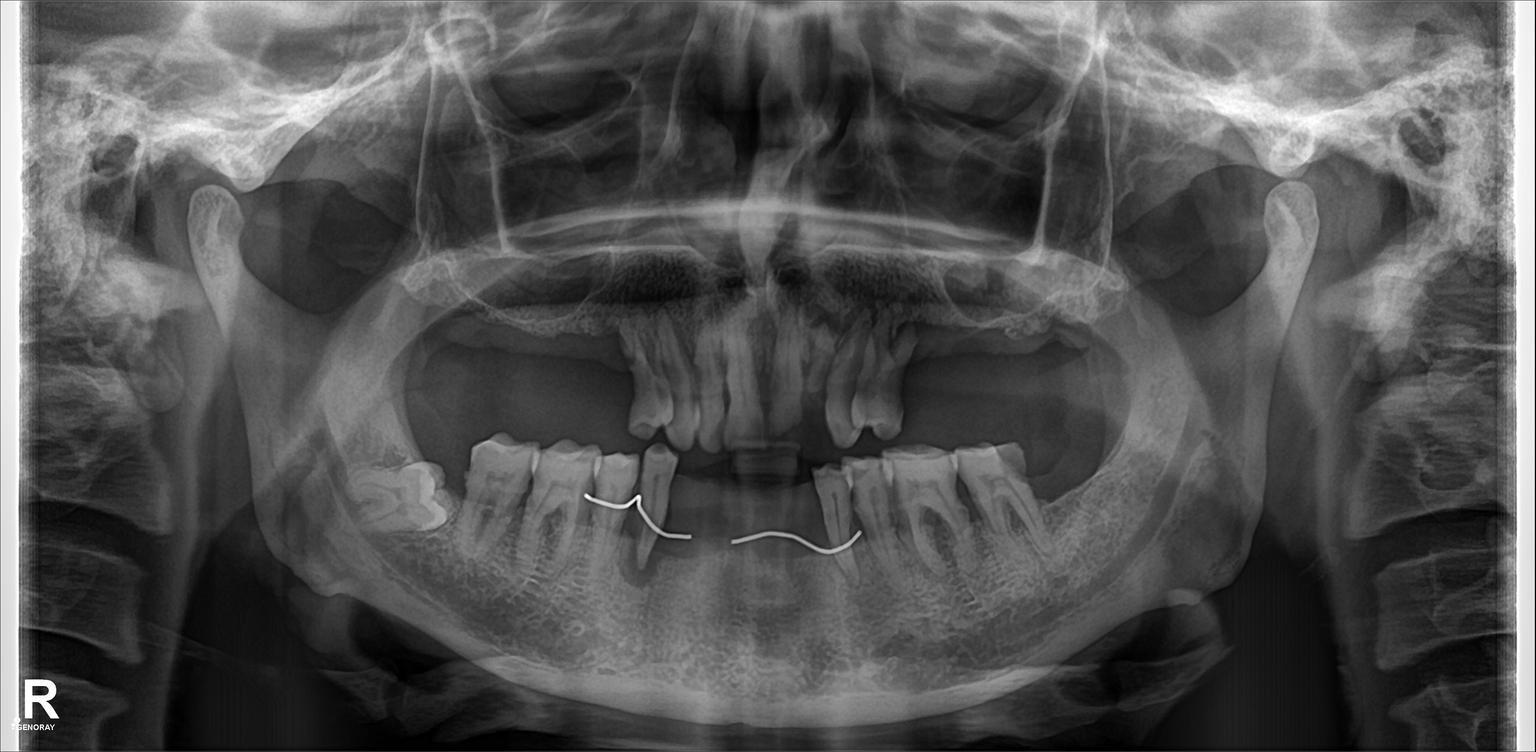Impacted Third Molar: (335, 473, 457, 535)
Missing Tooth: (1032, 436, 1101, 533), (771, 477, 825, 596), (410, 296, 459, 414), (548, 307, 591, 429), (456, 309, 504, 414), (726, 471, 767, 585), (596, 316, 638, 419), (1052, 300, 1088, 419), (961, 307, 1000, 414), (685, 467, 718, 590), (1004, 307, 1040, 419), (510, 303, 544, 414), (922, 315, 956, 404)
